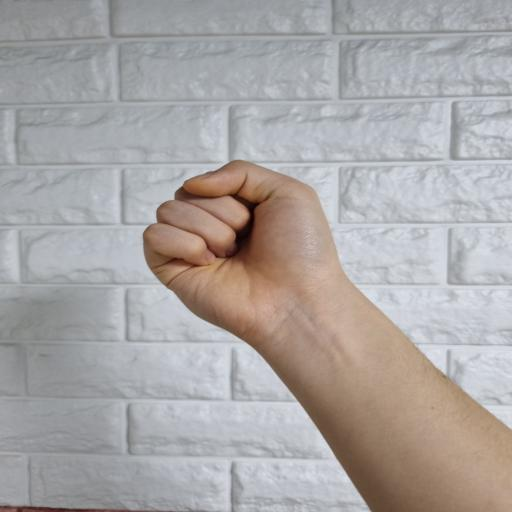Rock: (142, 156, 358, 354)
